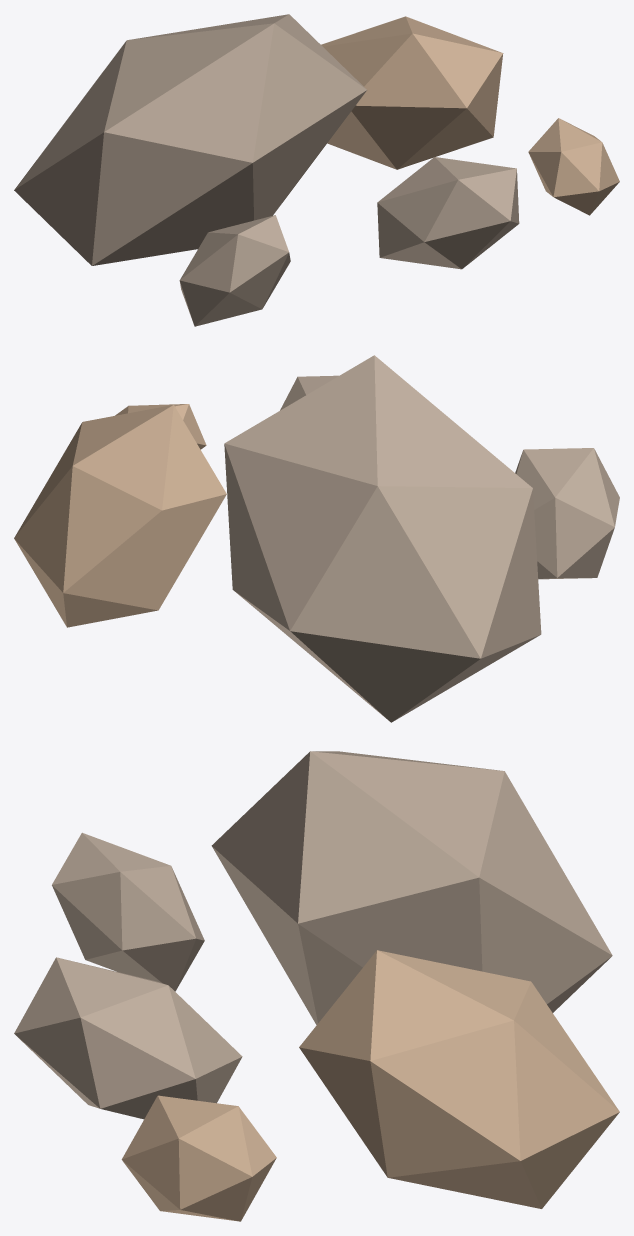
The model's file is MOONSHIFT_ENV_Terrain_Rocks.glb.
3 views of the same model, one above another, from view 1: azimuth 30°, elevation 25°; view 2: azimuth 150°, elevation 25°; view 3: azimuth 270°, elevation 25° (orthographic). The views are drawn at different scales.
Parts seen in each view (by area): view 1: Rock_0, Rock_1, Rock_2, Rock_4, Rock_3; view 2: Rock_0, Rock_1, Rock_4, Rock_3, Rock_2; view 3: Rock_0, Rock_1, Rock_2, Rock_4, Rock_3.
Boxes of the visible parts, left/top/right/bottom form: Rock_0: left=14, top=14, right=366, bottom=265; Rock_1: left=321, top=16, right=503, bottom=169; Rock_2: left=377, top=157, right=519, bottom=269; Rock_4: left=179, top=215, right=290, bottom=326; Rock_3: left=528, top=118, right=619, bottom=215; Rock_0: left=224, top=355, right=541, bottom=722; Rock_1: left=14, top=404, right=226, bottom=627; Rock_4: left=515, top=448, right=619, bottom=579; Rock_3: left=115, top=404, right=206, bottom=449; Rock_2: left=280, top=375, right=338, bottom=410; Rock_0: left=211, top=751, right=612, bottom=1024; Rock_1: left=299, top=950, right=619, bottom=1208; Rock_2: left=14, top=957, right=242, bottom=1119; Rock_4: left=52, top=832, right=204, bottom=991; Rock_3: left=121, top=1095, right=276, bottom=1221.
Size of the model in its own units: 1.57 by 0.8376 by 1.28.
